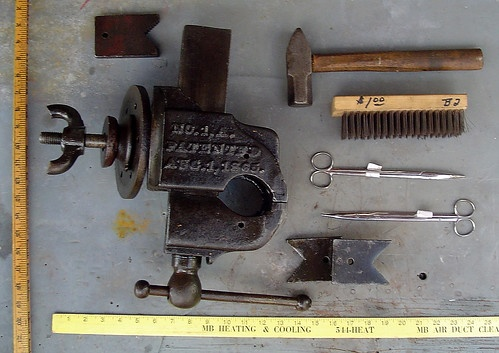hammer: (284, 27, 483, 109)
